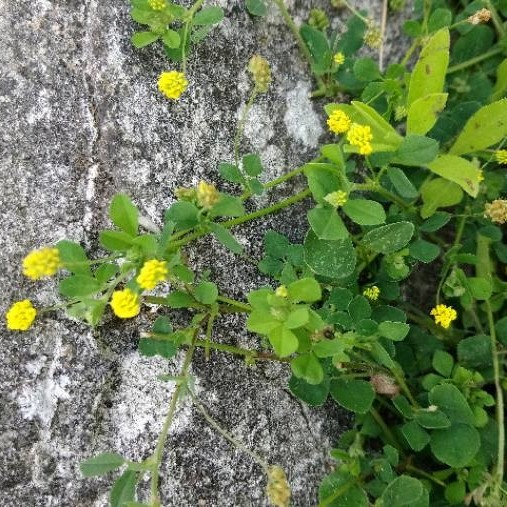obstacle: (228, 14, 496, 465), (22, 181, 340, 405)
